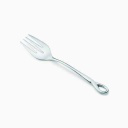fork: (8, 31, 114, 97)
